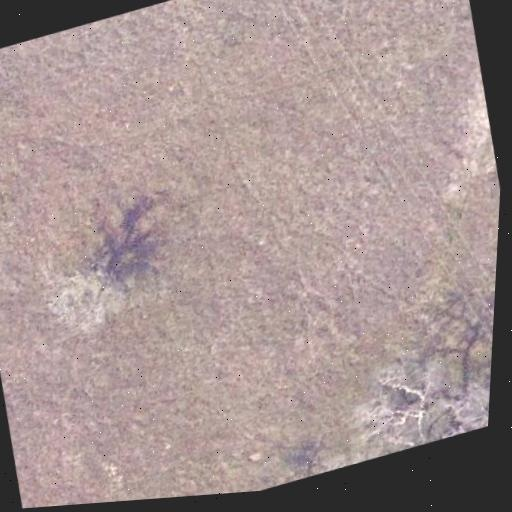tree-top: (336, 322, 493, 464), (36, 216, 154, 338)
